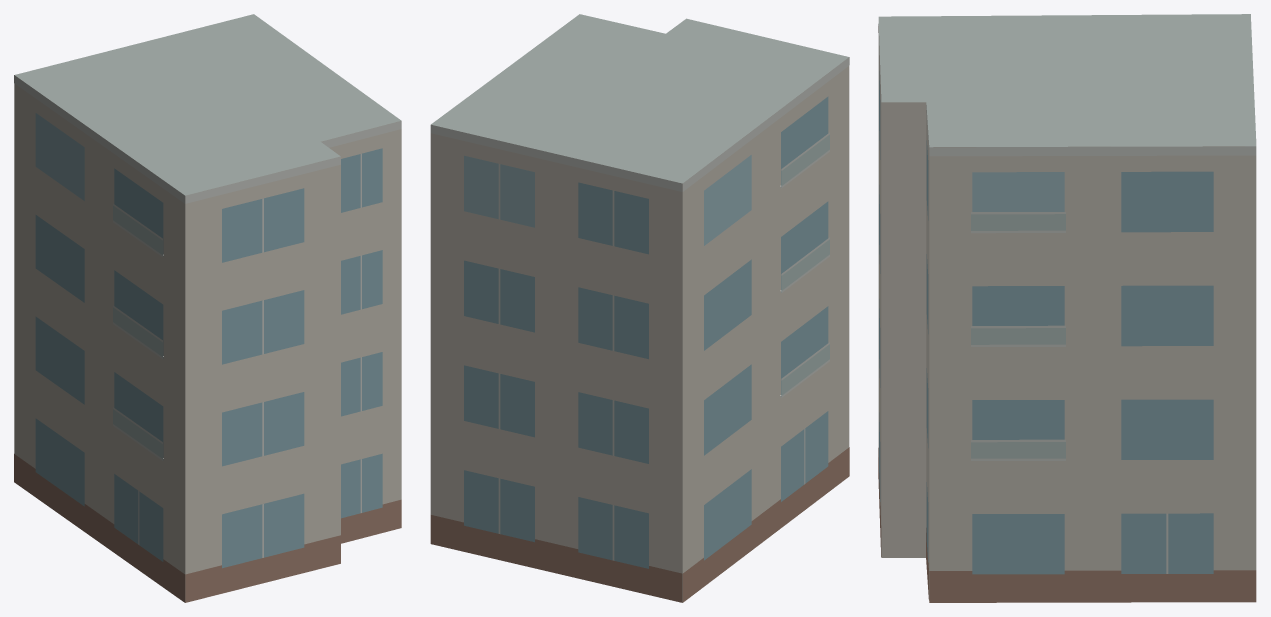
Rendered from survey-upis-32748021.glb.
The picture shows the model from 3 angles, left to right: view 1: azimuth 30°, elevation 25°; view 2: azimuth 150°, elevation 25°; view 3: azimuth 270°, elevation 25°; orthographic projection. The views are drawn at different scales.
Visible parts, largest first — view 1: survey-upis-32748021.tmp; view 2: survey-upis-32748021.tmp; view 3: survey-upis-32748021.tmp.
Part boxes in pixels (box(x1,y1,x2,y2)): survey-upis-32748021.tmp: box(14, 14, 401, 602); survey-upis-32748021.tmp: box(430, 14, 849, 602); survey-upis-32748021.tmp: box(878, 14, 1256, 602).
Size of the model in its own units: 7.55 by 12 by 9.03.
